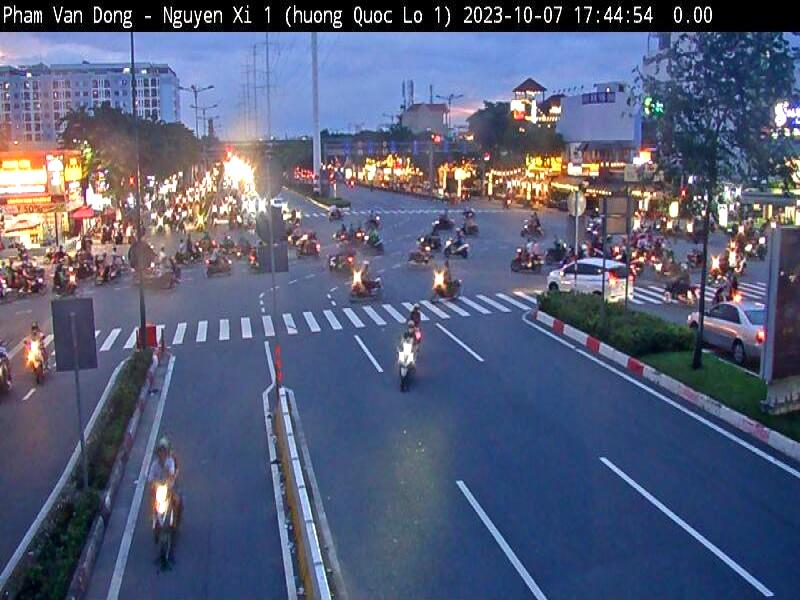car: (692, 300, 766, 366), (547, 260, 635, 307)
